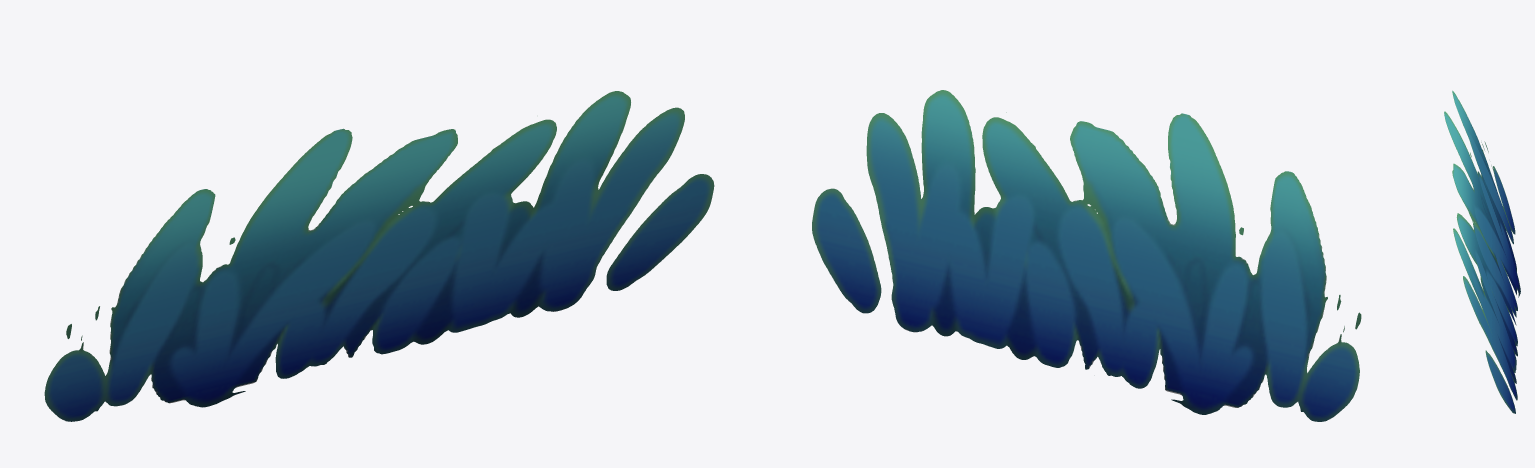
The model's file is Avatar_grass_01.fbx.
The picture shows the model from 3 angles, left to right: view 1: azimuth 30°, elevation 25°; view 2: azimuth 150°, elevation 25°; view 3: azimuth 270°, elevation 25°; orthographic projection. The views are drawn at different scales.
Parts seen in each view (by area): view 1: Avatar_grass_01; view 2: Avatar_grass_01; view 3: Avatar_grass_01.
Boxes of the visible parts, bbox=[...] form: Avatar_grass_01: bbox=[44, 91, 714, 421]; Avatar_grass_01: bbox=[812, 90, 1361, 421]; Avatar_grass_01: bbox=[1444, 90, 1520, 413].
Size of the model in its own units: 101 by 44.31 by 15.17.
